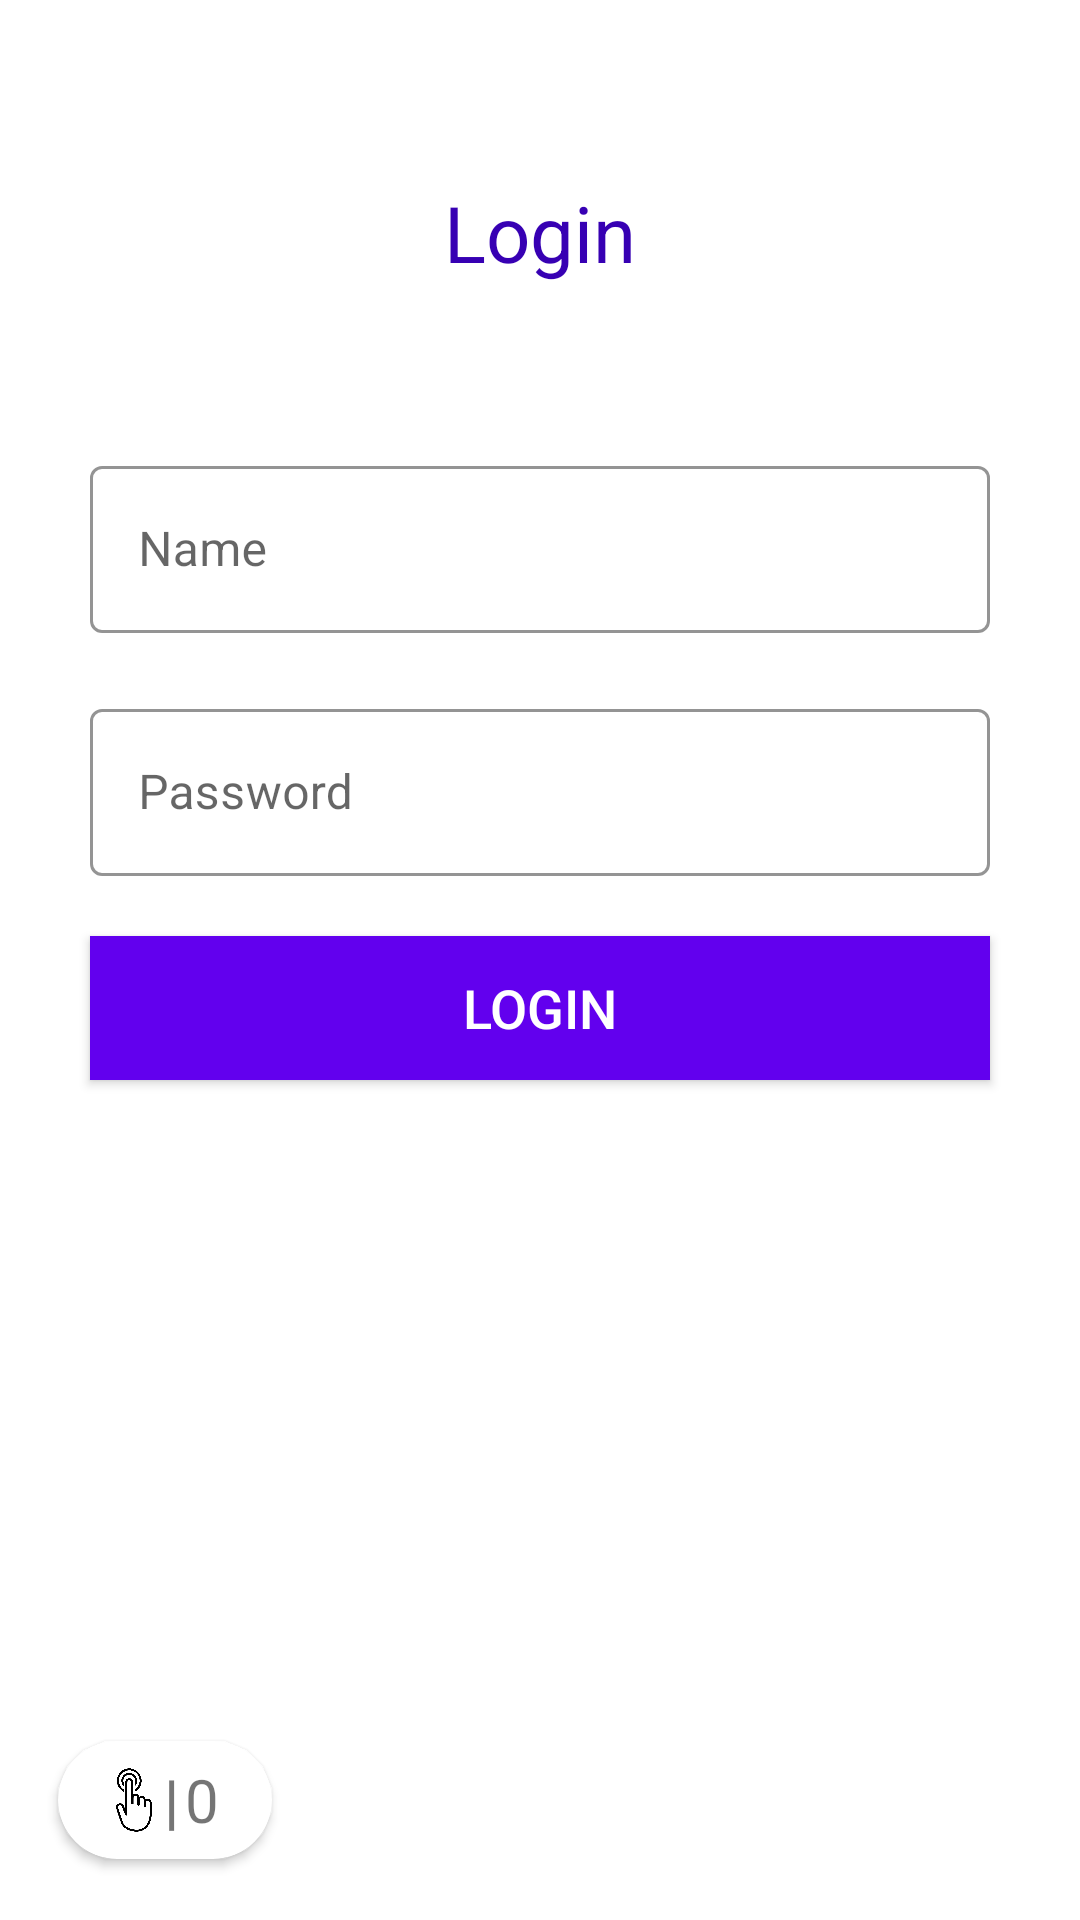

Named icons in this screenshot (1080px×1920px) and their bounding boxes, (x1, y1, x2, y2):
Number of Touch: (116, 1768, 152, 1832)
